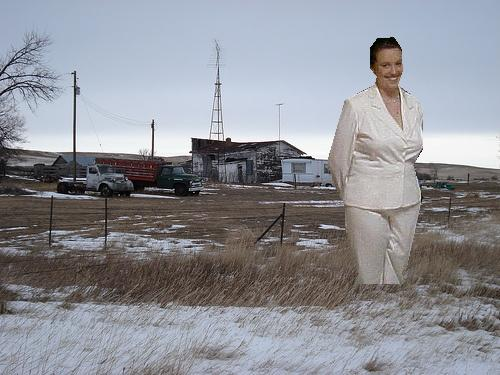tampered: (329, 38, 423, 284)
